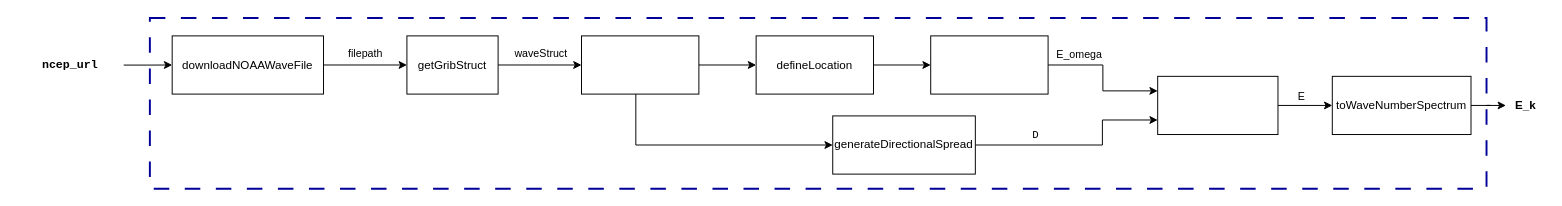
The diagram is 1562 pixels wide and 206 high, and some of its shapes have lost their labels. The centre of each missing label's shape, as x and y in pixels:
extractWaveParams: pixel 640 64
generate1DSpectrum: pixel 989 64
generate2DSpectrum: pixel 1217 105
